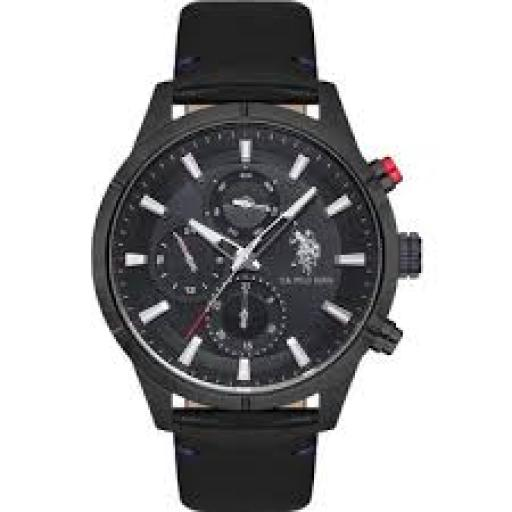KolSaati: (97, 0, 424, 512)
